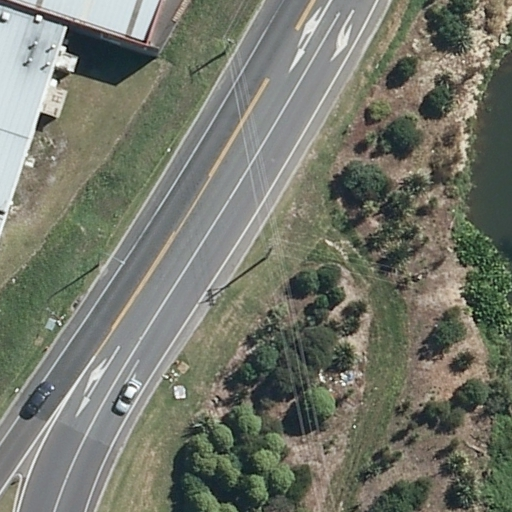DT: (257, 235, 282, 261), (217, 33, 240, 59)
